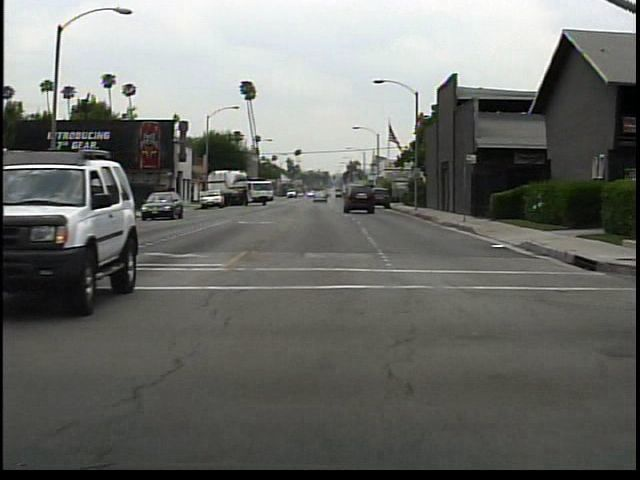person: (73, 181, 95, 222)
